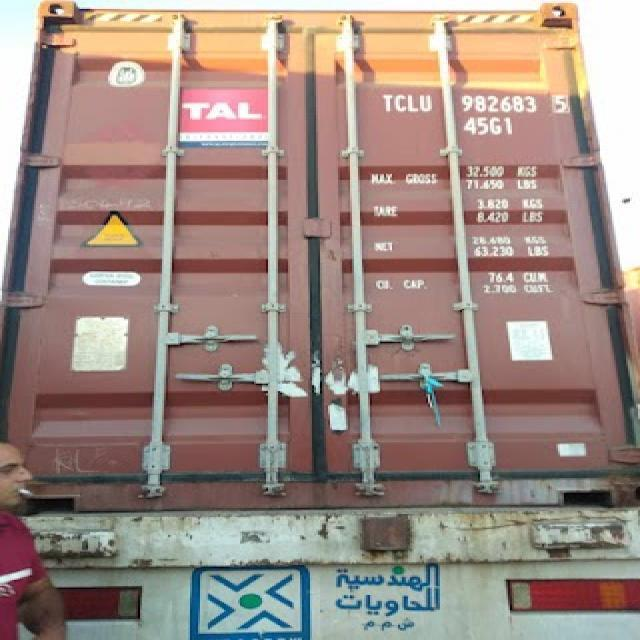ISO: (464, 115, 516, 136)
container_number: (383, 92, 563, 115)
